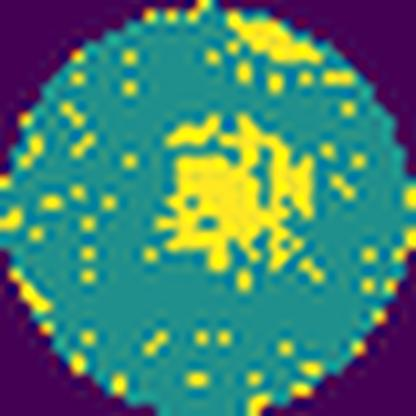Center: (156, 110, 320, 274)
